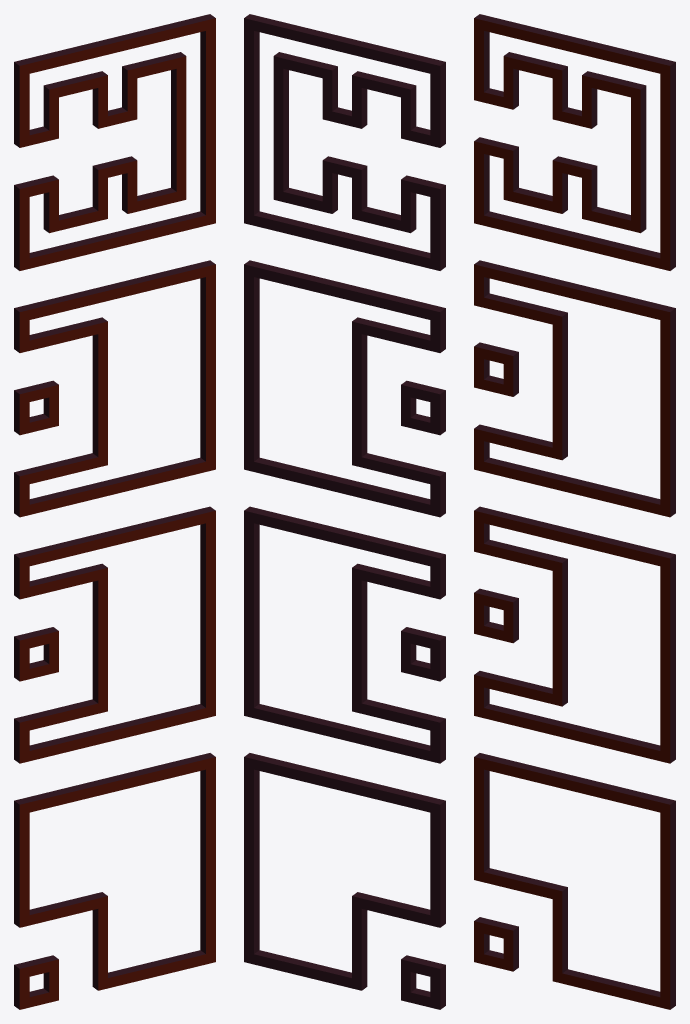
The model's file is neon_foodao.fezao.glb.
3 renders of one model, left to right at view 1: azimuth 30°, elevation 25°; view 2: azimuth 150°, elevation 25°; view 3: azimuth 330°, elevation 25°, orthographic.
Visible parts, largest first — view 1: NEON_FOODAO; view 2: NEON_FOODAO; view 3: NEON_FOODAO.
Part boxes in pixels (x1,y1,x2,y2): NEON_FOODAO: [14, 14, 215, 1009]; NEON_FOODAO: [244, 14, 445, 1009]; NEON_FOODAO: [474, 14, 675, 1009].
Size of the model in its own units: 1.25 by 5.75 by 0.0625.
1 material, 1 textured.
